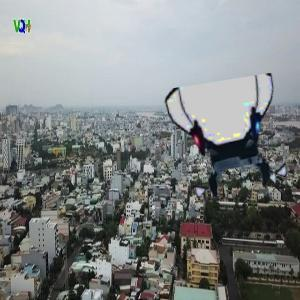drone: (171, 81, 292, 202)
